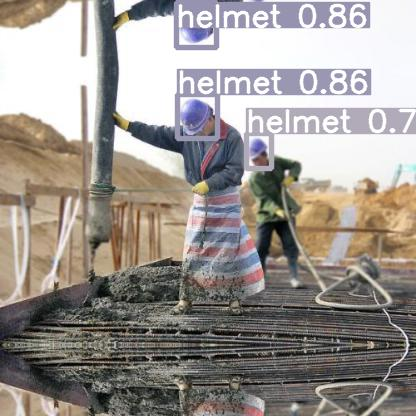helmet: (176, 2, 216, 47), (177, 94, 217, 138), (246, 133, 271, 168)
